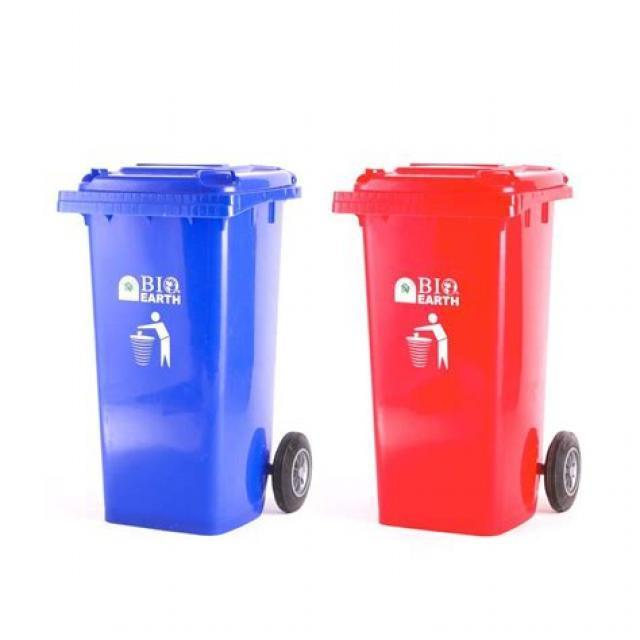garbage container: (54, 128, 327, 541), (339, 146, 597, 538)
